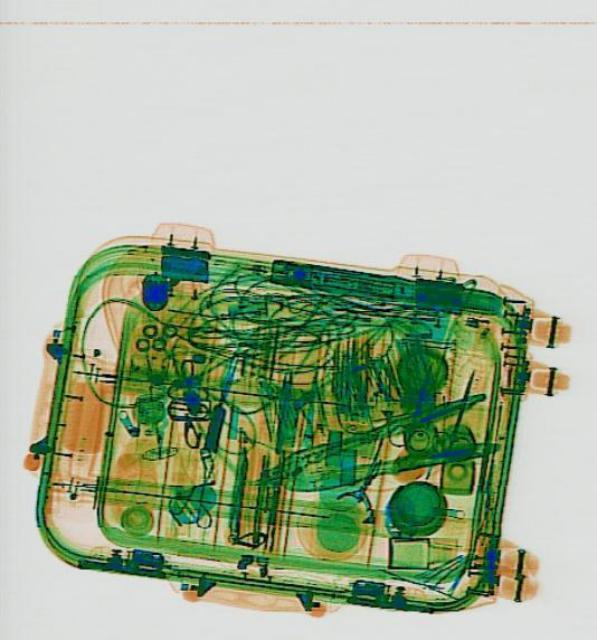Scissors: (424, 364, 490, 458), (387, 369, 443, 451)
